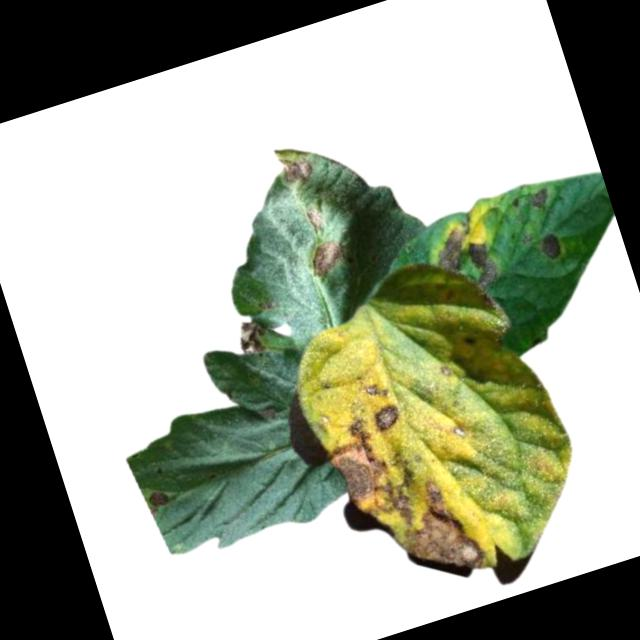Early_blight: (319, 406, 428, 543), (388, 470, 487, 586), (426, 215, 503, 300), (233, 313, 278, 358), (305, 236, 348, 278), (277, 150, 314, 184), (537, 225, 569, 262), (371, 402, 404, 432), (528, 186, 556, 211), (145, 486, 172, 510)
